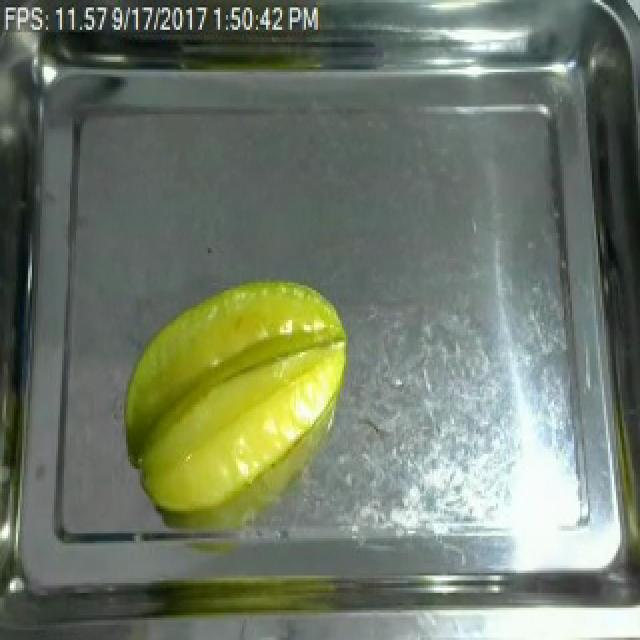fruit: (114, 270, 358, 526)
